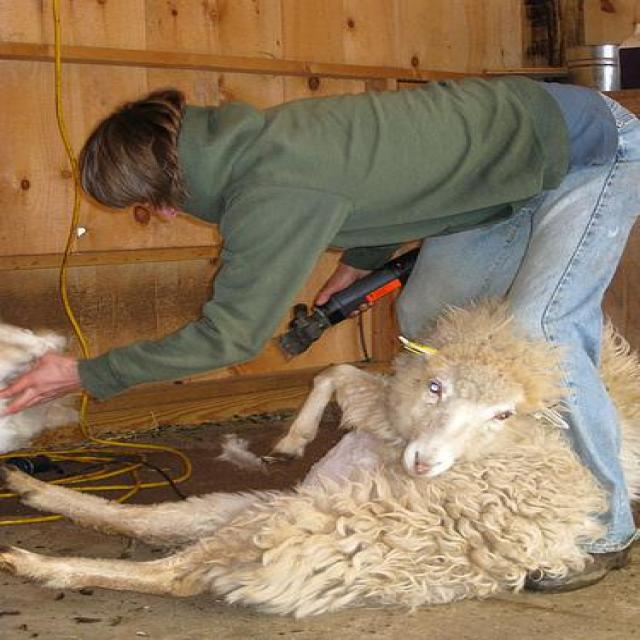Sheep: (2, 296, 638, 616)
